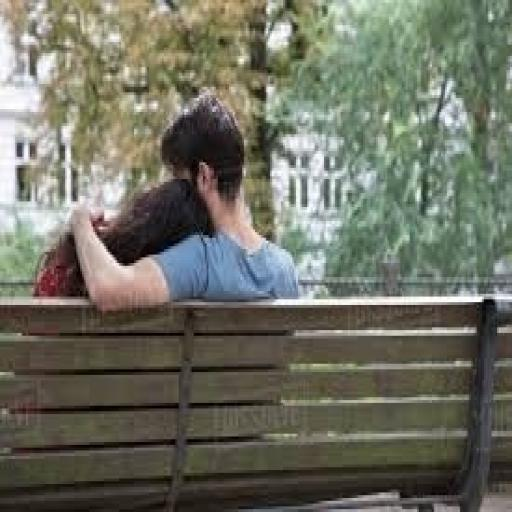sitting: (32, 86, 302, 310)
